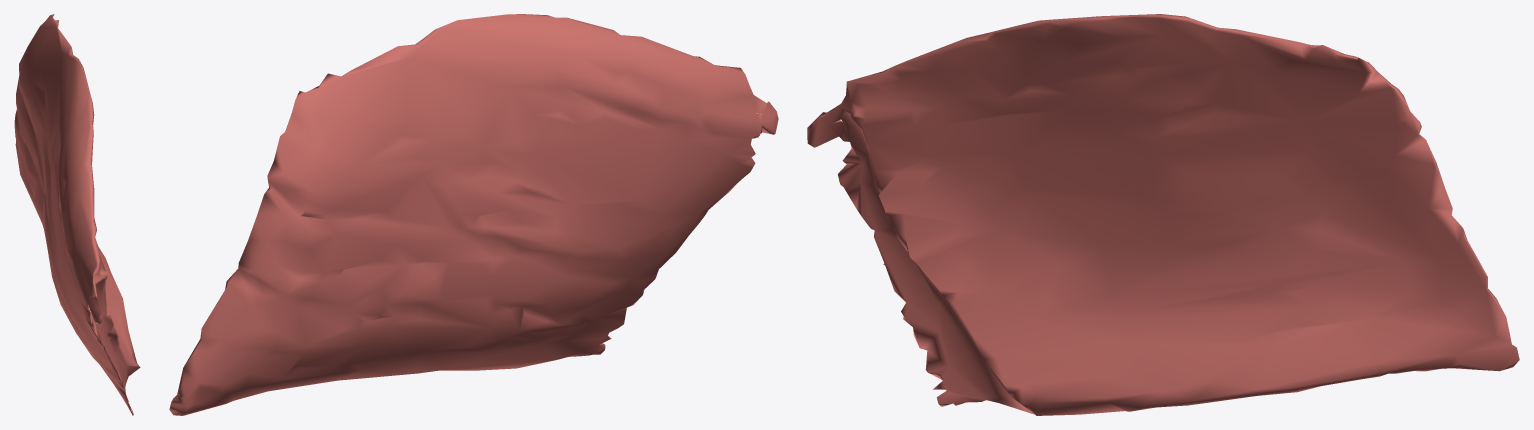
3 views of the same model, side by side, from view 1: azimuth 30°, elevation 25°; view 2: azimuth 150°, elevation 25°; view 3: azimuth 270°, elevation 25° (orthographic). The views are drawn at different scales.
Visible parts, largest first — view 1: 右侧咬肌浅部; view 2: 右侧咬肌浅部; view 3: 右侧咬肌浅部.
Part boxes in pixels (left/top/right/bottom): 右侧咬肌浅部: left=14, top=14, right=140, bottom=415; 右侧咬肌浅部: left=169, top=14, right=778, bottom=415; 右侧咬肌浅部: left=807, top=14, right=1519, bottom=415.
Size of the model in its own units: 0.0392 by 0.0582 by 0.0915.
